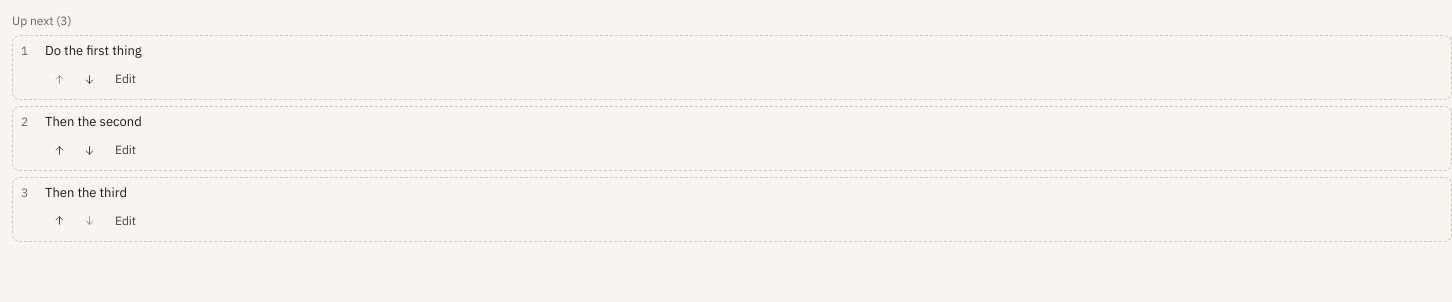
queued messages › puts the queue back and says why when a reorder is refused
This screenshot has width=1452, height=302.
Click the button named "Move message 3 earlier" at (59, 221), box [45,207,73,235]
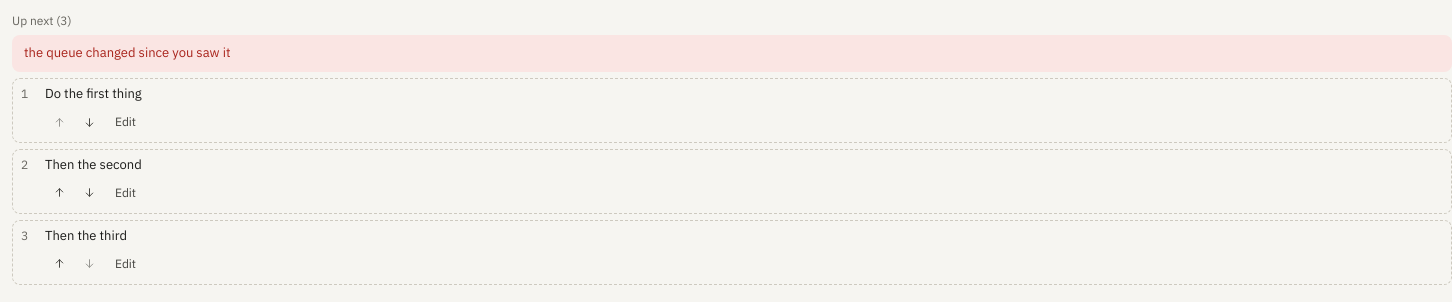
expect the message reads "the queue changed since you saw it": met, box [24,44,230,61]
